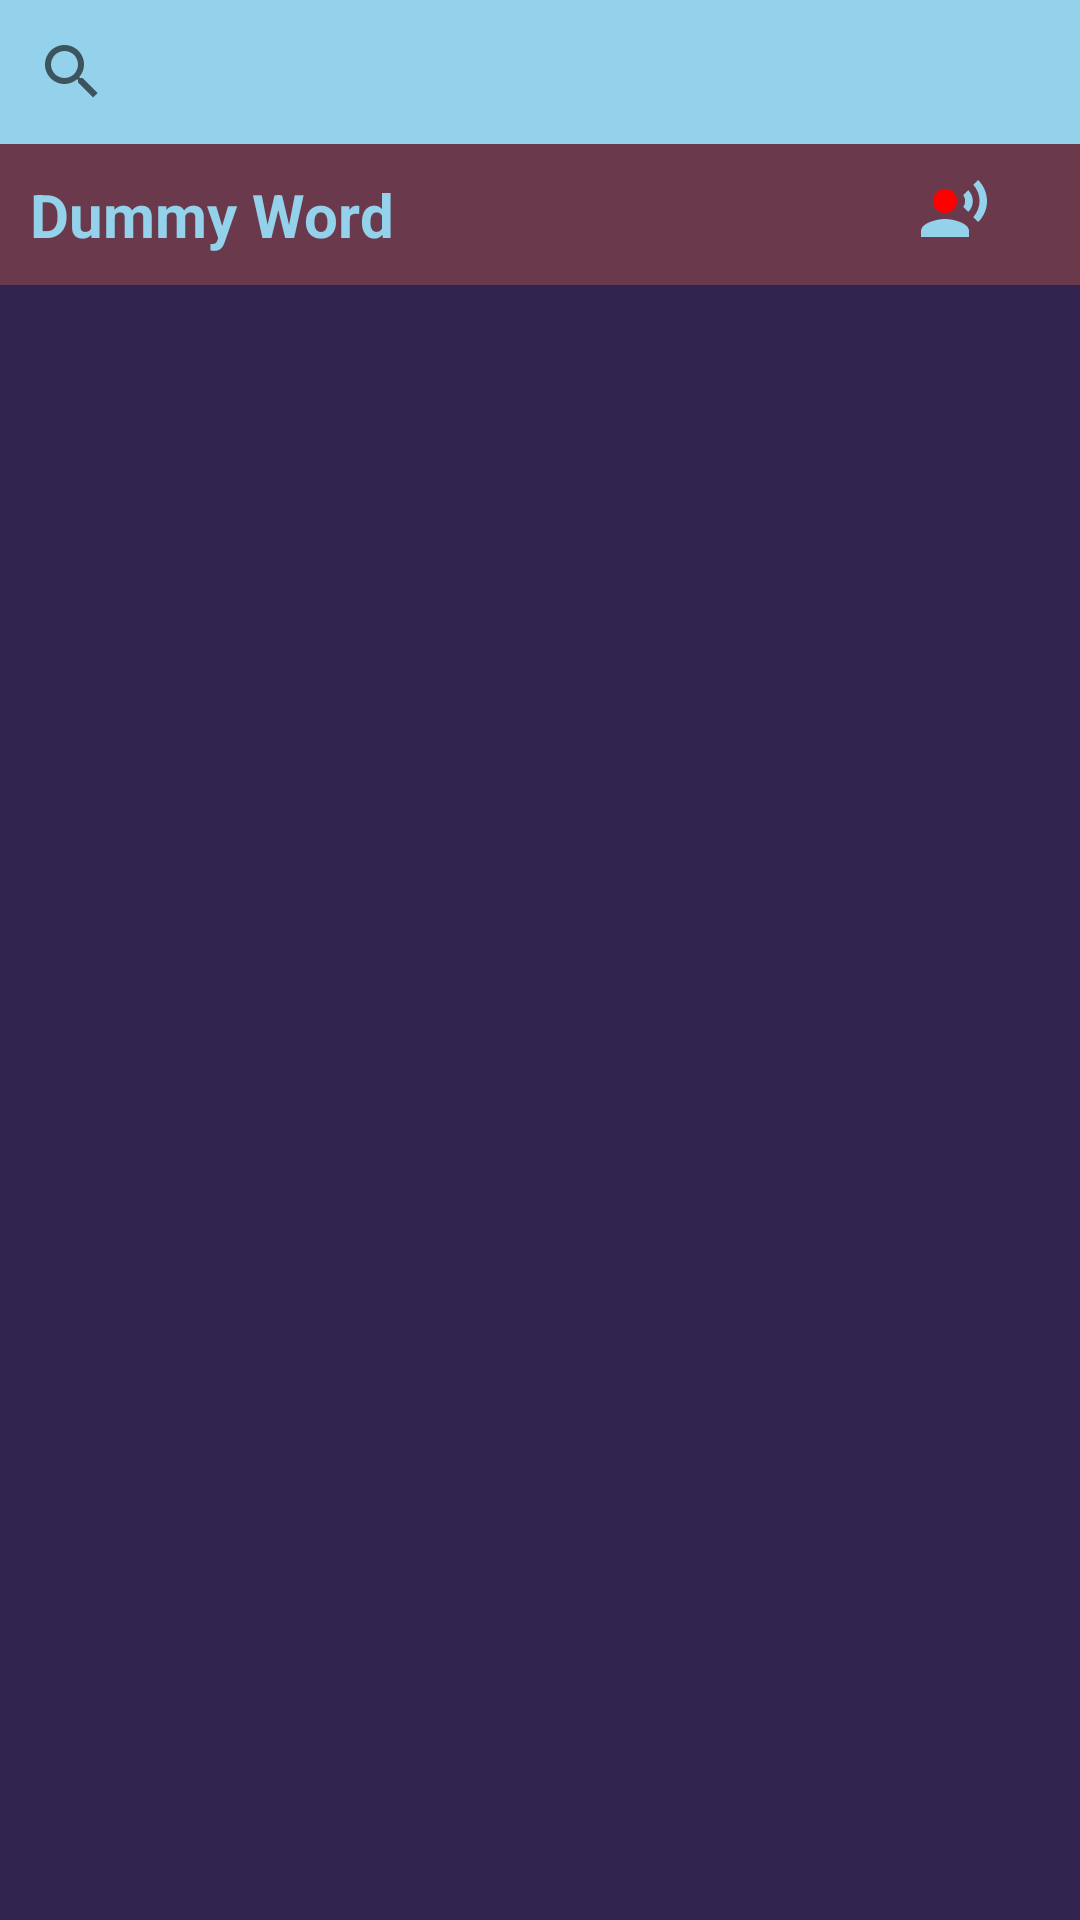

Locate icon controls on the screen. Image size 1080px×1920px, boxes as (x1, y1, x2, y2).
record voice over: (921, 180, 987, 237)
